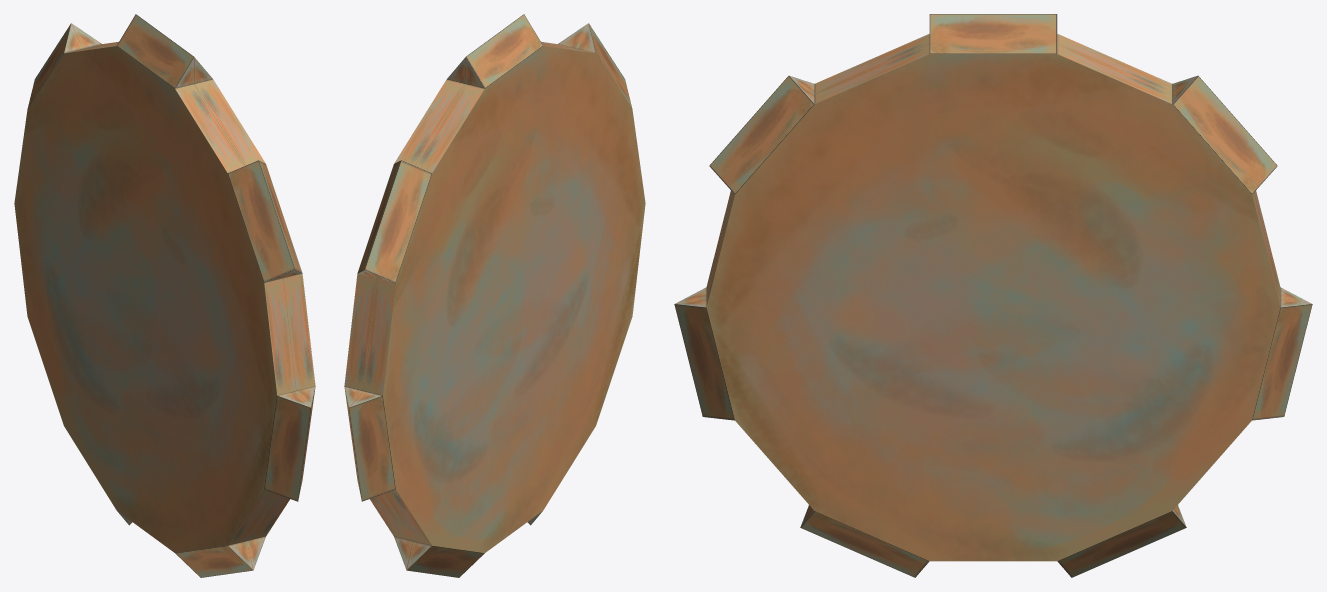
Rendered from saw.fbx.
The picture shows the model from 3 angles, left to right: view 1: azimuth 30°, elevation 25°; view 2: azimuth 150°, elevation 25°; view 3: azimuth 270°, elevation 25°; orthographic projection. The views are drawn at different scales.
Visible parts, largest first — view 1: serra; view 2: serra; view 3: serra.
Part boxes in pixels (x1,y1,x2,y2): serra: (14,14,315,577); serra: (344,14,645,577); serra: (674,14,1312,577).
Bounding box in the file's own units: 154 × 1982 × 2033.
